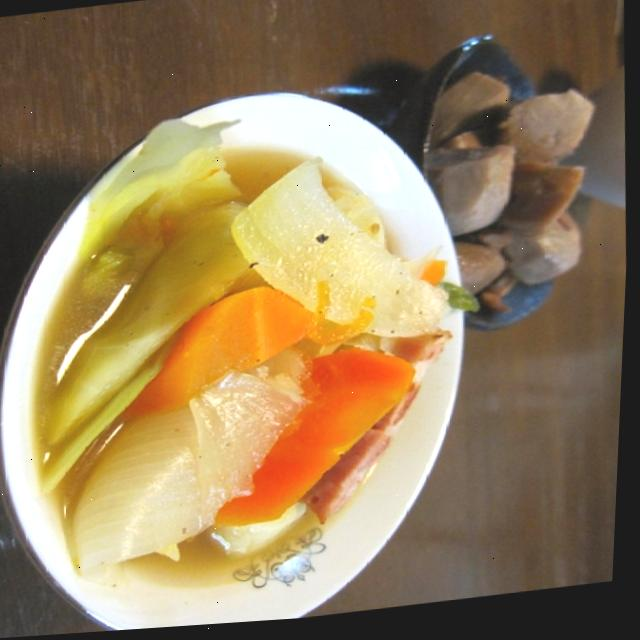汤锅炖物: (0, 71, 522, 639)
